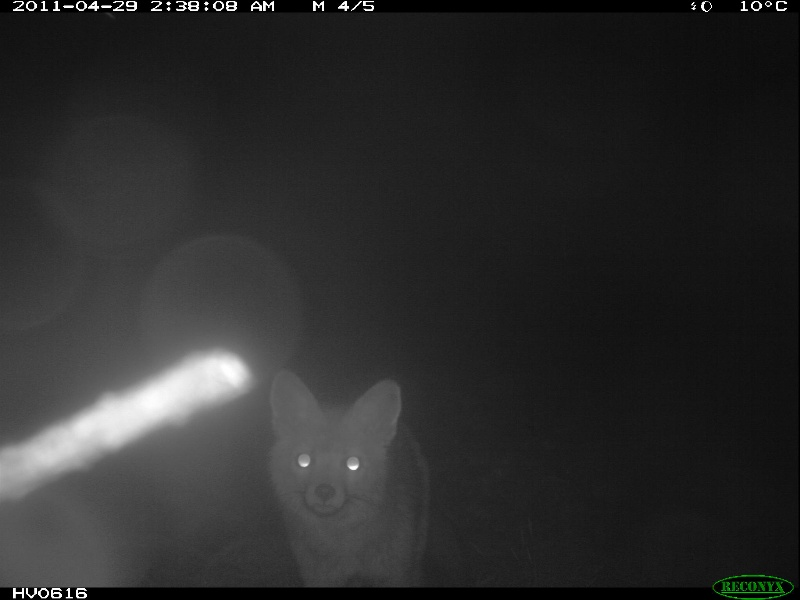fox: (257, 361, 440, 582)
